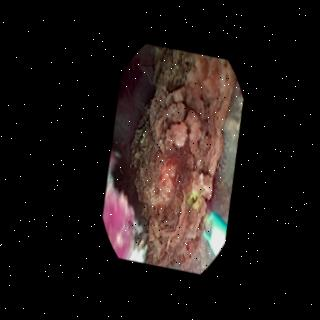fiber: (199, 212, 223, 254)
stone: (128, 50, 233, 270), (209, 87, 240, 218)
tissue: (100, 47, 153, 260)
